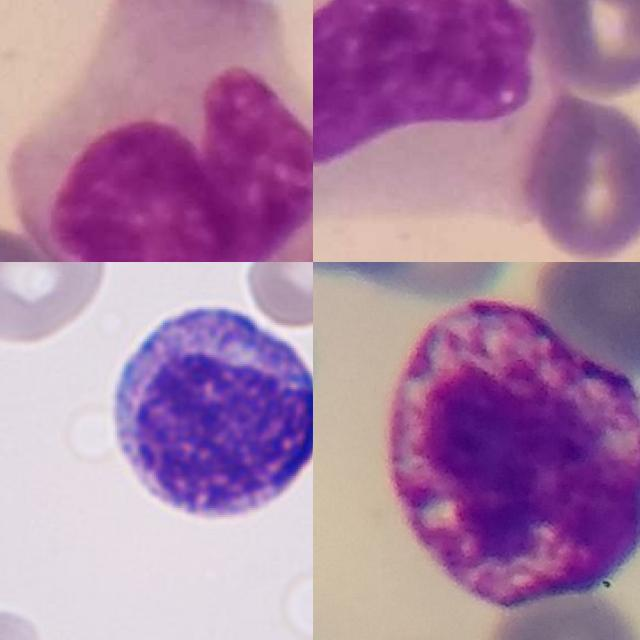Basophil: (386, 291, 640, 610)
Lymphocyte: (97, 295, 313, 533)
Monocyte: (13, 0, 313, 262), (313, 0, 559, 221)
RBC: (0, 262, 115, 350), (240, 262, 313, 328), (0, 554, 51, 640)
